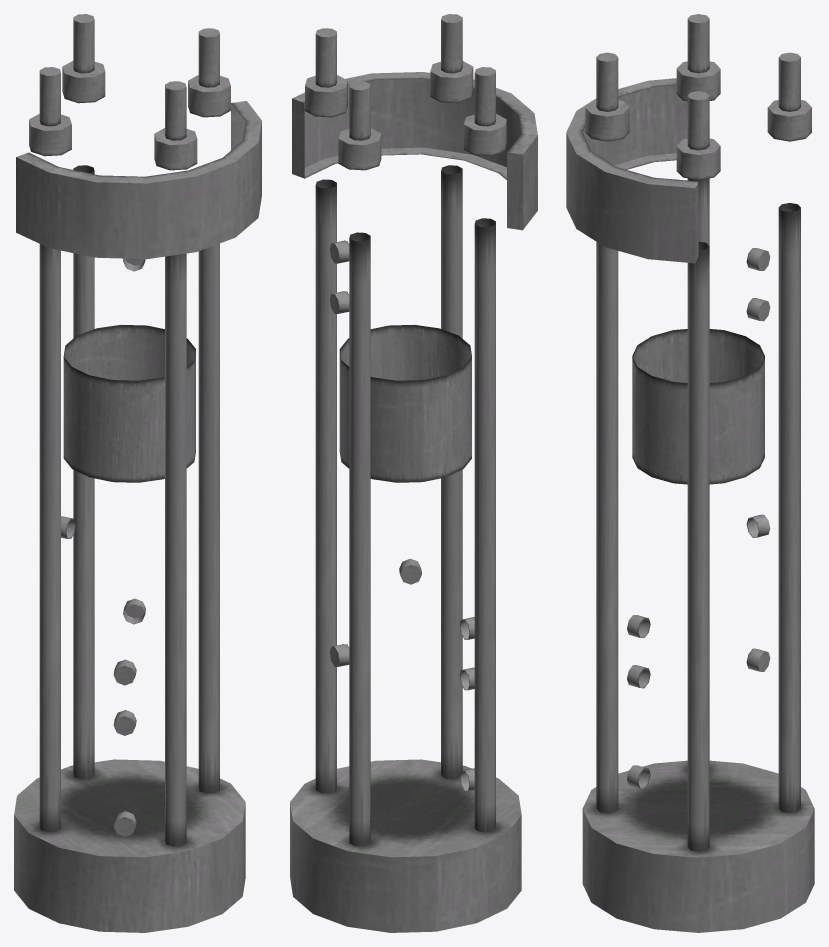
Rendered from ship_component_weapon_s01_l0.fbx.
3 renders of one model, left to right at view 1: azimuth 30°, elevation 25°; view 2: azimuth 150°, elevation 25°; view 3: azimuth 270°, elevation 25°, orthographic.
Parts seen in each view (by area): view 1: mesh_node; view 2: mesh_node; view 3: mesh_node.
Boxes of the visible parts, x1,y1,x2,y2 form: mesh_node: [14, 14, 261, 932]; mesh_node: [290, 14, 537, 932]; mesh_node: [566, 14, 814, 932].
Bounding box in the file's own units: 0.4788 × 1.65 × 0.4494.
